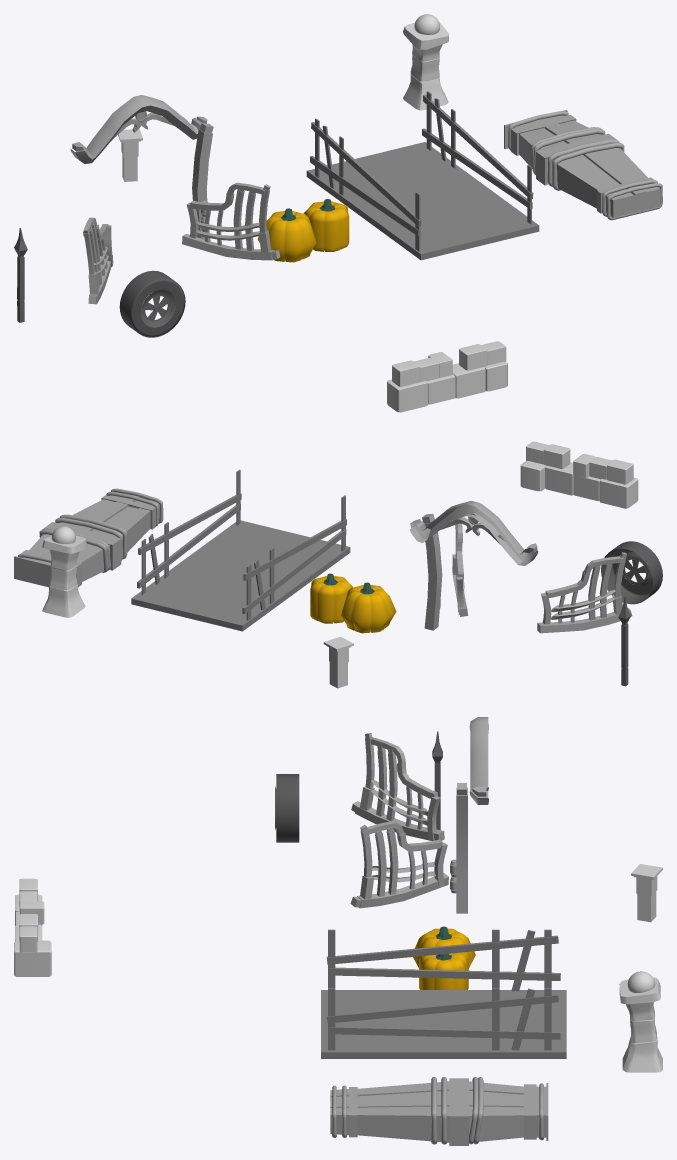
Rendered from ctr all 2k.fbx.
3 renders of one model, top to bottom at view 1: azimuth 30°, elevation 25°; view 2: azimuth 150°, elevation 25°; view 3: azimuth 270°, elevation 25°, orthographic. The views are drawn at different scales.
Parts seen in each view (by area): view 1: my_old_tire:cart, coffin, rod13, my_old_tire:statue, my_old_tire:gat_top, loftedSurface21, my_old_tire:pumkins, my_old_tire:PUMKIN, rod14, my_old_tire:rod, pCube1, my_old_tire:my_old_tire:loftedSurface21 (+8 smaller); view 2: my_old_tire:cart, coffin, rod14, my_old_tire:statue, my_old_tire:gat_top, my_old_tire:pumkins, loftedSurface21, my_old_tire:PUMKIN, my_old_tire:rod, my_old_tire:square_pillar, pCube1, rod13 (+12 smaller); view 3: my_old_tire:cart, coffin, rod13, rod14, my_old_tire:statue, loftedSurface21, my_old_tire:gat_top, my_old_tire:rod, my_old_tire:PUMKIN, my_old_tire:square_pillar, pCube7, my_old_tire:pumkins.
Boxes of the visible parts, <box> form: my_old_tire:cart: <box>306,91,539,260</box>; coffin: <box>504,110,660,217</box>; rod13: <box>182,182,280,260</box>; my_old_tire:statue: <box>403,14,448,110</box>; my_old_tire:gat_top: <box>70,95,207,163</box>; loftedSurface21: <box>119,270,185,337</box>; my_old_tire:pumkins: <box>257,208,316,262</box>; my_old_tire:PUMKIN: <box>303,199,349,251</box>; rod14: <box>83,217,113,304</box>; my_old_tire:rod: <box>192,123,213,241</box>; pCube1: <box>387,379,427,412</box>; my_old_tire:my_old_tire:loftedSurface21: <box>141,289,176,327</box>; my_old_tire:cart: <box>131,469,350,631</box>; coffin: <box>14,492,159,587</box>; rod14: <box>537,552,632,633</box>; my_old_tire:statue: <box>42,526,86,617</box>; my_old_tire:gat_top: <box>410,501,538,565</box>; my_old_tire:pumkins: <box>341,582,396,633</box>; loftedSurface21: <box>601,541,662,604</box>; my_old_tire:PUMKIN: <box>310,573,352,623</box>; my_old_tire:rod: <box>422,513,442,630</box>; my_old_tire:square_pillar: <box>323,636,353,688</box>; pCube1: <box>599,477,638,508</box>; rod13: <box>452,523,468,616</box>; my_old_tire:cart: <box>321,929,566,1058</box>; coffin: <box>330,1078,548,1145</box>; rod13: <box>350,821,448,908</box>; rod14: <box>351,733,444,840</box>; my_old_tire:statue: <box>619,971,662,1072</box>; loftedSurface21: <box>276,774,299,842</box>; my_old_tire:gat_top: <box>469,717,488,804</box>; my_old_tire:rod: <box>456,783,467,913</box>; my_old_tire:PUMKIN: <box>419,952,468,989</box>; my_old_tire:square_pillar: <box>631,864,662,922</box>; pCube7: <box>14,940,51,976</box>; my_old_tire:pumkins: <box>413,926,475,968</box>.
Size of the model in its own units: 23.67 by 6.49 by 20.38.
